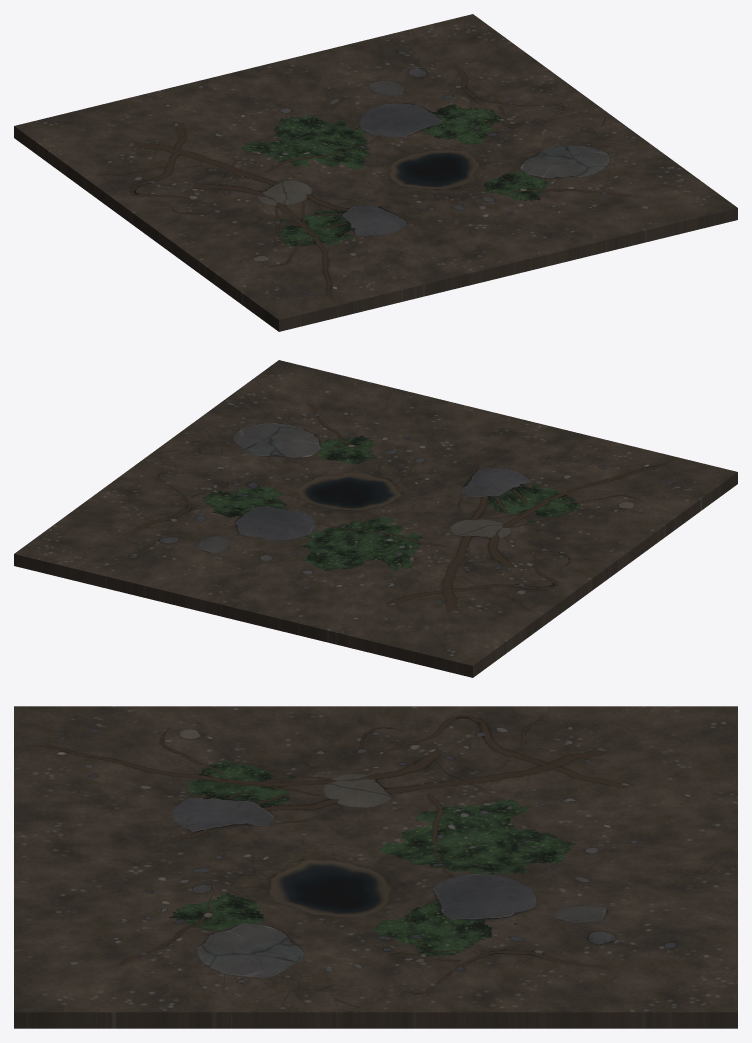
The model's file is cavern_floor_c.glb.
3 renders of one model, top to bottom at view 1: azimuth 30°, elevation 25°; view 2: azimuth 150°, elevation 25°; view 3: azimuth 270°, elevation 25°, orthographic. The views are drawn at different scales.
Parts seen in each view (by area): view 1: cavern_floor_c; view 2: cavern_floor_c; view 3: cavern_floor_c.
Boxes of the visible parts, x1=… form: cavern_floor_c: x1=14, y1=14, x2=737, y2=331; cavern_floor_c: x1=14, y1=360, x2=737, y2=677; cavern_floor_c: x1=14, y1=706, x2=737, y2=1028.
Bounding box in the file's own units: 4 × 0.14 × 4.
1 material, 1 textured.
